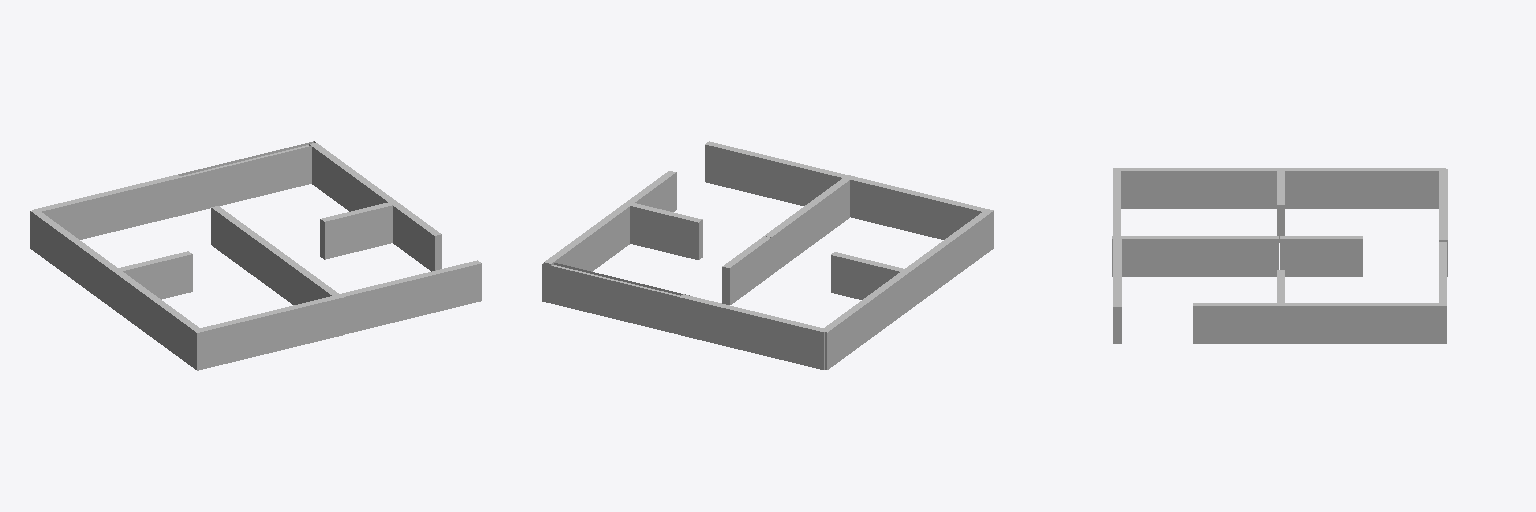
The model's file is house_empty.obj.
3 views of the same model, side by side, from view 1: azimuth 30°, elevation 25°; view 2: azimuth 150°, elevation 25°; view 3: azimuth 270°, elevation 25° (orthographic).
Visible parts, largest first — view 1: Merged_Meshes; view 2: Merged_Meshes; view 3: Merged_Meshes.
Boxes of the visible parts, box(x1,y1,x2,y2) form: Merged_Meshes: box(30, 141, 481, 370); Merged_Meshes: box(542, 141, 993, 369); Merged_Meshes: box(1112, 168, 1447, 343).
Bounding box in the file's own units: 39.38 × 5 × 40.12.